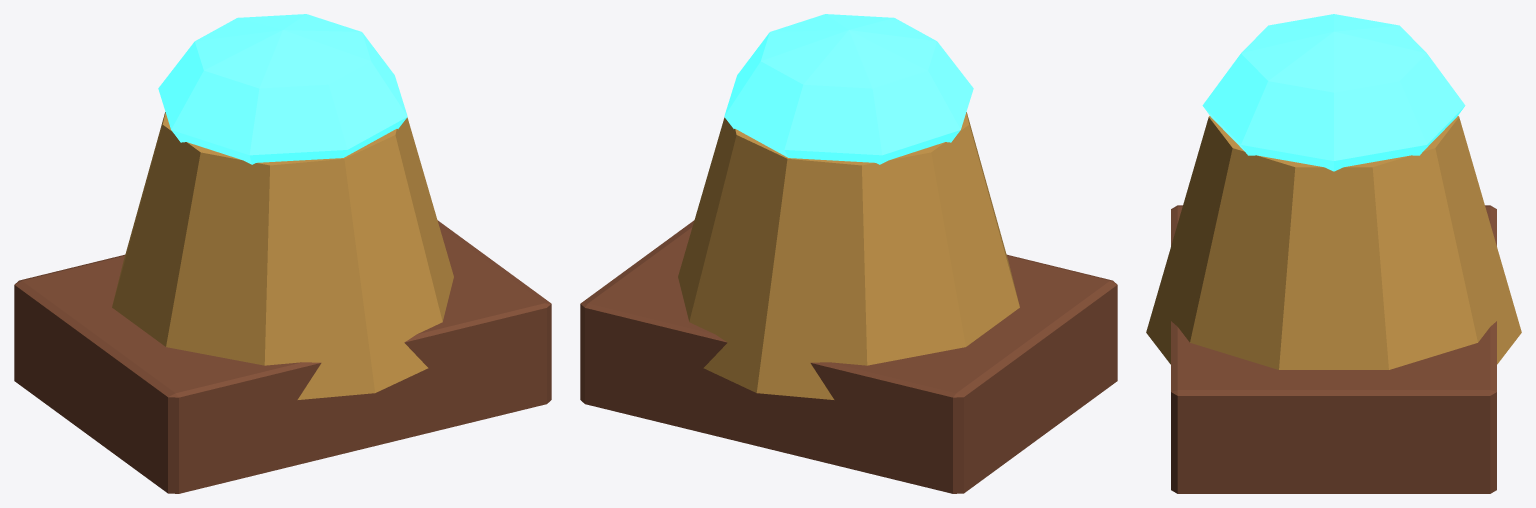
Rendered from footlight.glb.
3 views of the same model, side by side, from view 1: azimuth 30°, elevation 25°; view 2: azimuth 150°, elevation 25°; view 3: azimuth 270°, elevation 25° (orthographic).
Visible parts, largest first — view 1: footlight_housing, footlight_base, footlight_lens; view 2: footlight_housing, footlight_base, footlight_lens; view 3: footlight_housing, footlight_base, footlight_lens.
Boxes of the visible parts, left/top/right/bottom form: footlight_housing: left=112, top=112, right=453, bottom=399; footlight_base: left=14, top=220, right=551, bottom=493; footlight_lens: left=158, top=14, right=407, bottom=164; footlight_housing: left=678, top=112, right=1019, bottom=399; footlight_base: left=580, top=220, right=1117, bottom=493; footlight_lens: left=724, top=14, right=973, bottom=164; footlight_housing: left=1146, top=116, right=1521, bottom=369; footlight_base: left=1171, top=205, right=1496, bottom=493; footlight_lens: left=1202, top=14, right=1465, bottom=171.
Bounding box in the file's own units: 0.72 × 0.6502 × 0.6.
